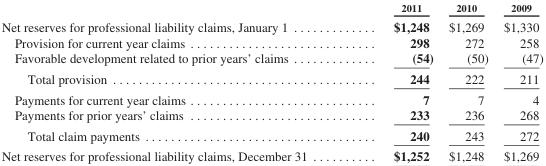table: (0, 0, 542, 163)
table column: (0, 0, 349, 163), (349, 0, 440, 163), (440, 0, 495, 163), (495, 0, 542, 163)
table column header: (0, 0, 542, 16)
table row: (0, 67, 542, 88), (0, 124, 542, 145), (0, 16, 542, 34), (0, 49, 542, 67), (0, 88, 542, 106), (0, 106, 542, 124), (0, 145, 542, 163), (0, 0, 542, 16), (0, 34, 542, 49)
